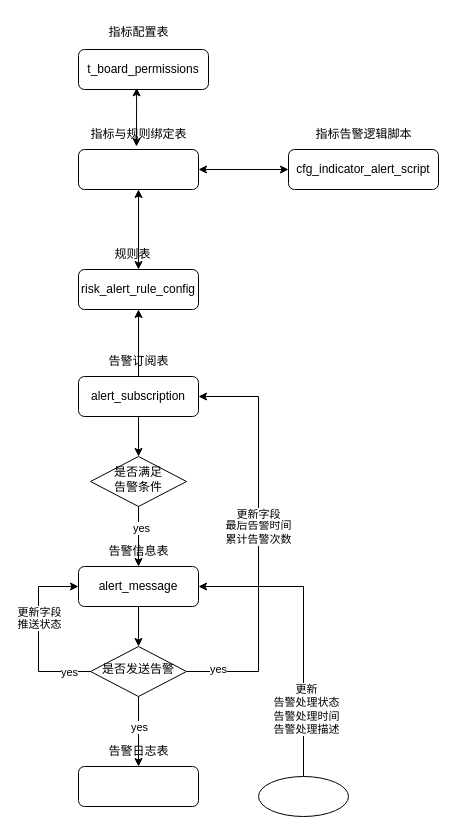
This 456x834 diagram has some shape labels left out. Each missing label, with the box of its shape:
alert_log: (78, 766, 198, 806)
indicator_rule_binding: (78, 148, 198, 190)
告警处理: (258, 776, 348, 816)
